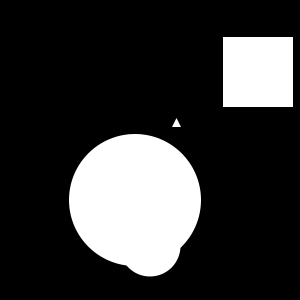circle: (223, 37, 293, 107)
rectangle: (69, 134, 201, 266), (120, 215, 180, 276)
triangle: (172, 118, 181, 127)
